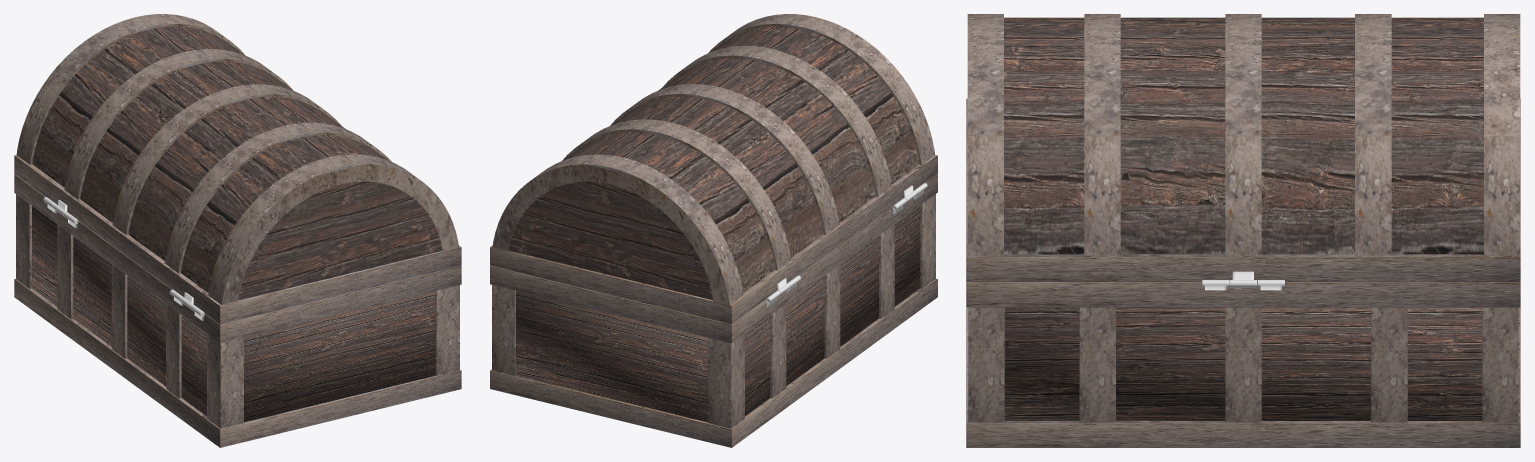
The model's file is chest.fbx.
3 renders of one model, left to right at view 1: azimuth 30°, elevation 25°; view 2: azimuth 150°, elevation 25°; view 3: azimuth 270°, elevation 25°, orthographic. The views are drawn at different scales.
Visible parts, largest first — view 1: Tube_2_2, Boite, Cylinder_3, Cube, Cube_1, Tube_2, Cube_3, Tube_3, Tube_5, Tube_4, Tube, Renfort_angle_1 (+5 smaller); view 2: Tube_2_2, Boite, Cylinder_1, Cube, Cube_1, Tube_5, Cube_3, Tube_4, Tube_3, Tube, Tube_2, Renfort_angle_3 (+5 smaller); view 3: Tube_2_2, Boite, Cube, Cube_1, Cube_3, Tube_4, Tube_3, Tube_2, Tube, Tube_5, Renfort_angle_2, Renfort_angle (+4 smaller).
Part boxes in pixels (x1,y1,x2,y2): Tube_2_2: (32, 26, 388, 292); Boite: (32, 206, 435, 422); Cylinder_3: (238, 181, 442, 300); Cube: (14, 155, 461, 324); Cube_1: (14, 278, 461, 447); Tube_2: (208, 154, 458, 305); Cube_3: (14, 174, 461, 343); Tube_3: (64, 49, 292, 199); Tube_5: (16, 14, 245, 164); Tube_4: (165, 122, 391, 273); Tube: (112, 84, 340, 235); Renfort_angle_1: (207, 334, 243, 428); Tube_2_2: (562, 26, 919, 292); Boite: (516, 206, 920, 422); Cylinder_1: (509, 181, 713, 299); Cube: (490, 155, 937, 324); Cube_1: (490, 278, 937, 447); Tube_5: (492, 154, 742, 305); Cube_3: (490, 174, 937, 343); Tube_4: (663, 45, 891, 196); Tube_3: (562, 119, 790, 270); Tube: (610, 84, 839, 234); Tube_2: (708, 14, 934, 164); Renfort_angle_3: (708, 334, 744, 428); Tube_2_2: (1004, 17, 1483, 254); Boite: (1004, 307, 1482, 420); Cube: (966, 98, 1520, 281); Cube_1: (966, 307, 1520, 447); Cube_3: (966, 282, 1520, 307); Tube_4: (1084, 14, 1120, 255); Tube_3: (1355, 14, 1391, 255); Tube_2: (967, 14, 1003, 255); Tube: (1225, 14, 1261, 255); Tube_5: (1484, 14, 1520, 255); Renfort_angle_2: (1482, 307, 1518, 422); Renfort_angle: (968, 307, 1004, 422).
Size of the model in its own units: 214 by 204 by 304.
Materials: 2 (2 with a texture image).
